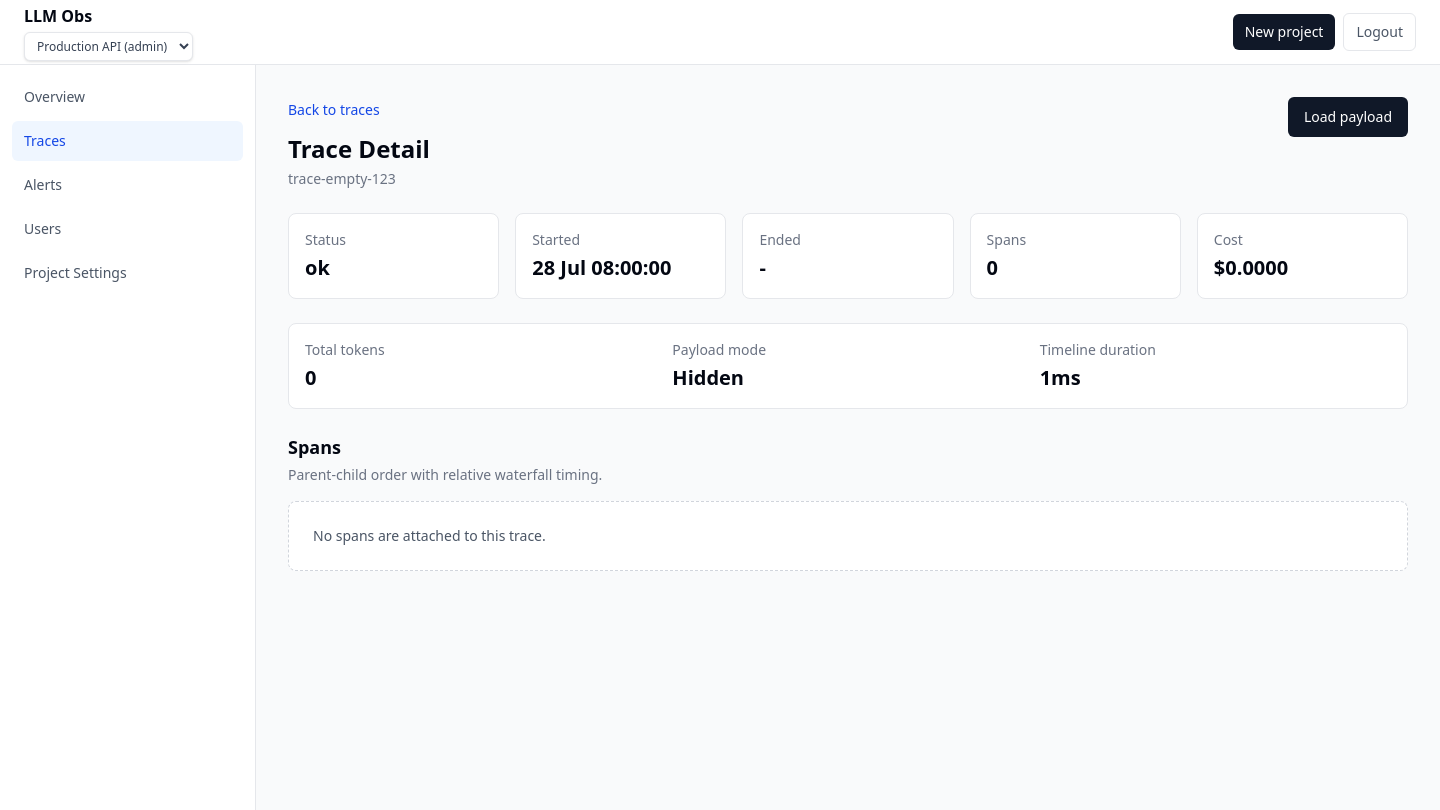
App › shows trace detail empty and no-payload states without blank content
This screenshot has width=1440, height=810.
Expected: the heading "Trace Detail" is shown, [288, 133, 430, 165]
Expected: the text "No spans are attached to this trace." is shown, [288, 501, 1408, 571]
Click the button "Load payload". click: (1348, 117)
box: [1288, 97, 1408, 137]
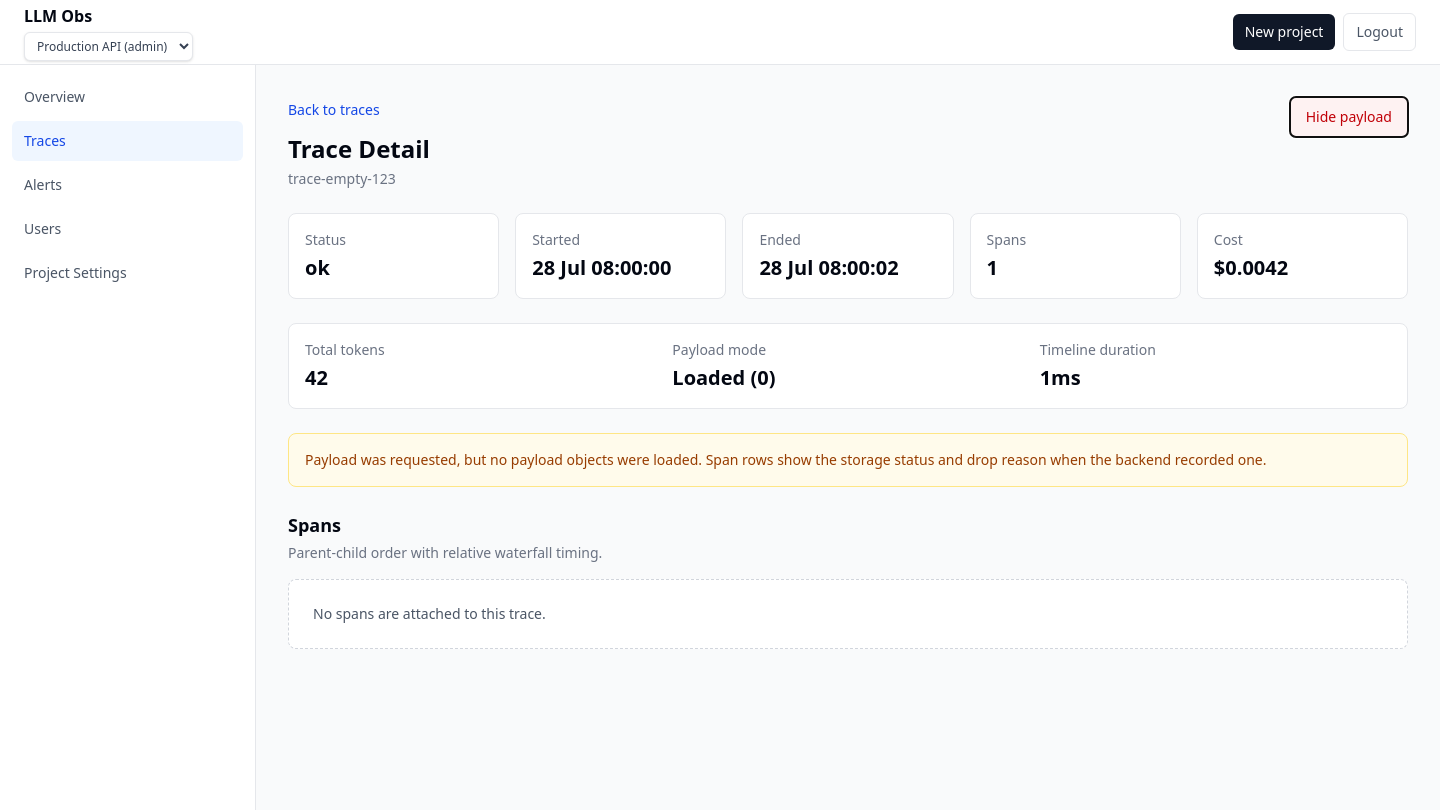
Now the text "Loaded (0)" is shown, box [672, 364, 775, 391]
Now the text "Payload was requested, but no payload objects were loaded" is shown, box [305, 450, 1266, 469]
